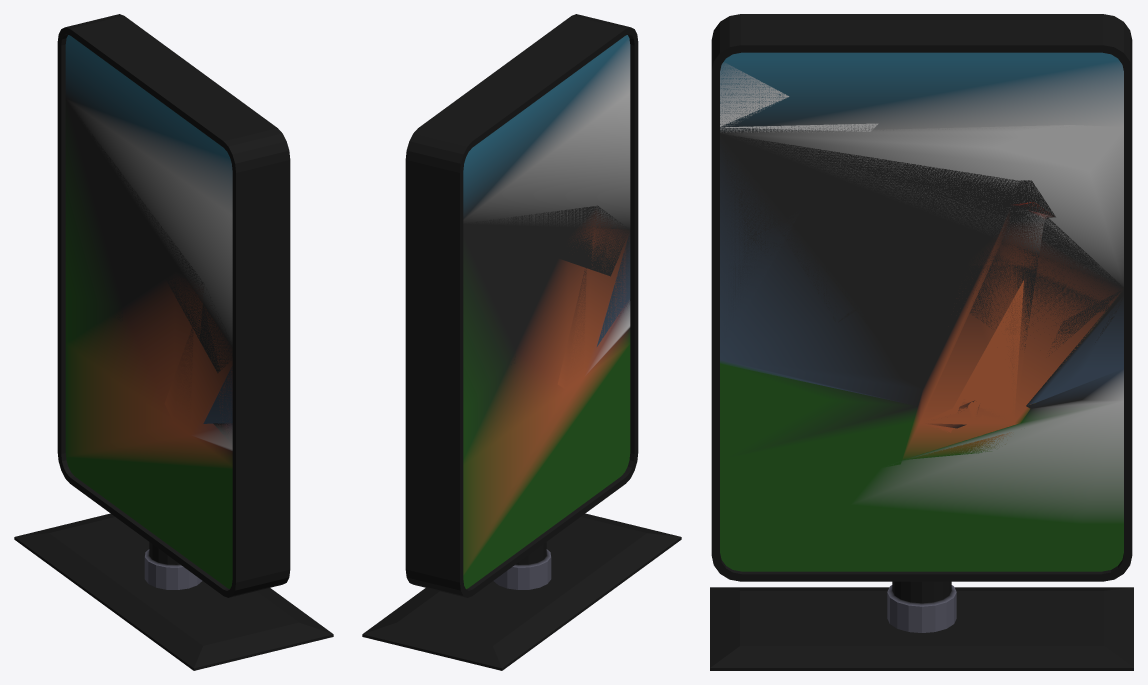
The model's file is pub.glb.
The picture shows the model from 3 angles, left to right: view 1: azimuth 30°, elevation 25°; view 2: azimuth 150°, elevation 25°; view 3: azimuth 270°, elevation 25°; orthographic projection. The views are drawn at different scales.
Parts seen in each view (by area): view 1: 15.Advertising_Cube.146; view 2: 15.Advertising_Cube.146; view 3: 15.Advertising_Cube.146.
Part boxes in pixels (x1,y1,x2,y2): 15.Advertising_Cube.146: (14,14,333,670); 15.Advertising_Cube.146: (362,14,681,670); 15.Advertising_Cube.146: (710,14,1133,670).
Size of the model in its own units: 0.5521 by 1.92 by 1.23.
